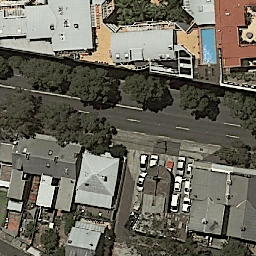car: (135, 172, 145, 191), (173, 175, 182, 194), (182, 196, 191, 213), (177, 156, 185, 175), (140, 154, 148, 172), (171, 195, 179, 212), (187, 159, 194, 178), (150, 154, 159, 167), (184, 179, 190, 196)
